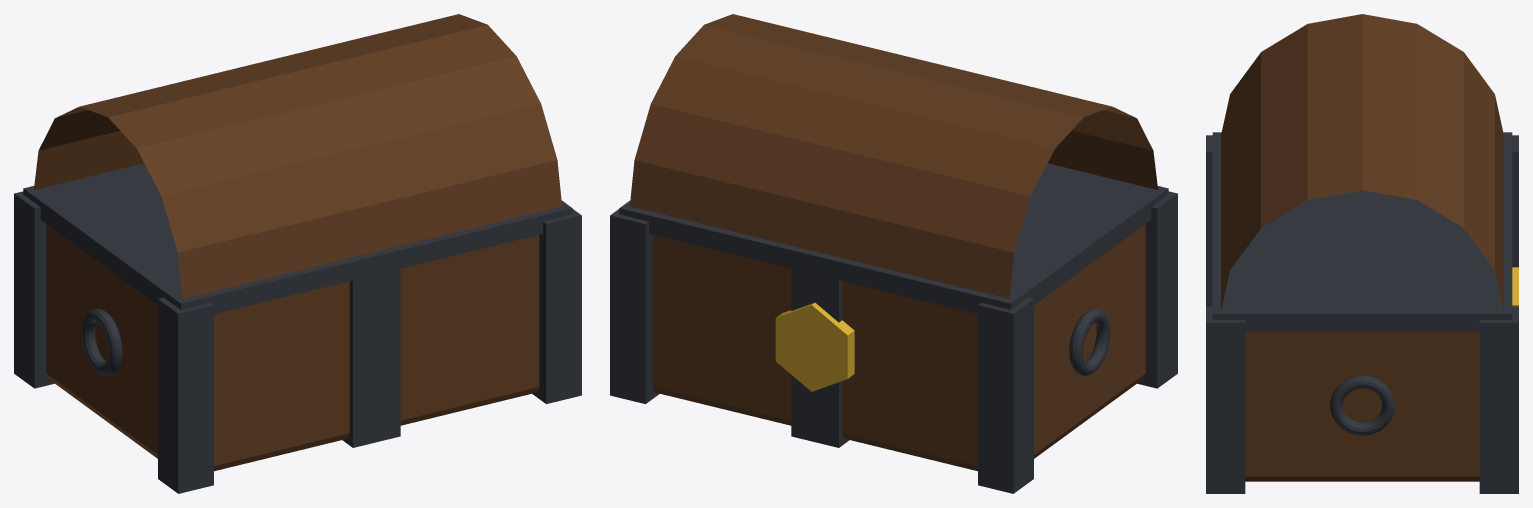
Rendered from dungeon_chest_variant_a.obj.
3 renders of one model, left to right at view 1: azimuth 30°, elevation 25°; view 2: azimuth 150°, elevation 25°; view 3: azimuth 270°, elevation 25°, orthographic. The views are drawn at different scales.
Parts seen in each view (by area): view 1: dungeon_chest_variant_a; view 2: dungeon_chest_variant_a; view 3: dungeon_chest_variant_a.
Part boxes in pixels (x1=…): dungeon_chest_variant_a: x1=14, y1=14, x2=581, y2=493; dungeon_chest_variant_a: x1=610, y1=14, x2=1177, y2=493; dungeon_chest_variant_a: x1=1206, y1=14, x2=1518, y2=493.
Size of the model in its own units: 0.68 by 0.505 by 0.48.
